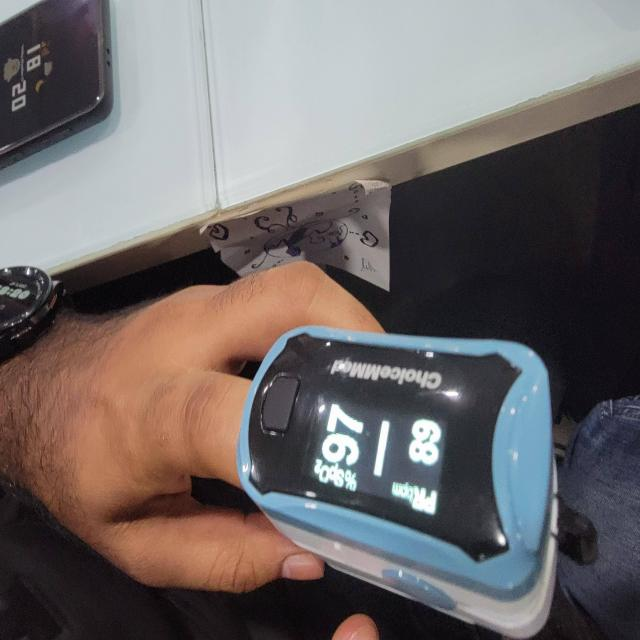spo2: (235, 326, 558, 640)
